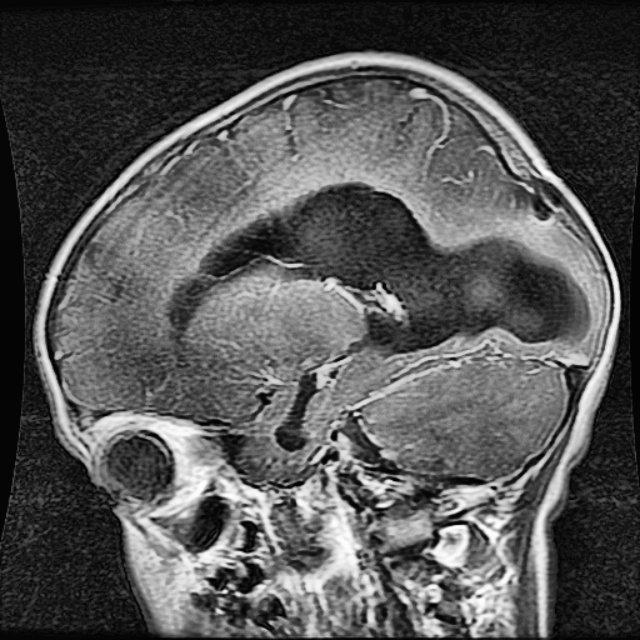Meningioma: (169, 178, 588, 449)
